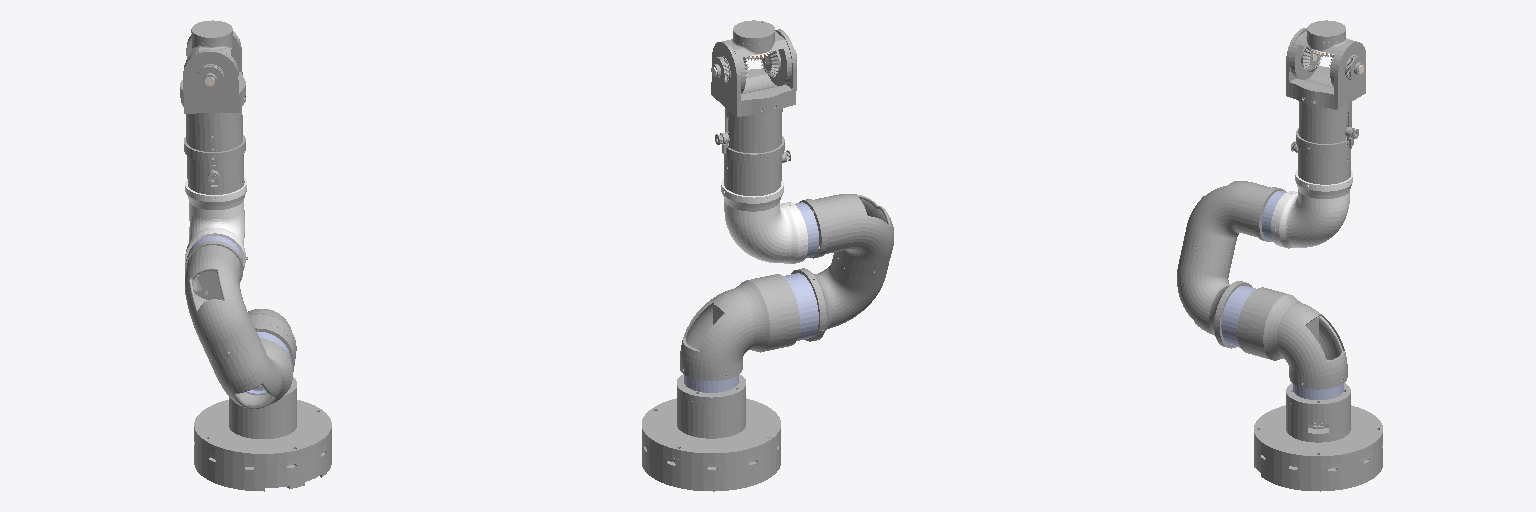
The robot description file, URDF, robot "full-arm-smaller-as-exported":
<?xml version="1.0" encoding="utf-8"?>
<!--
  WayBionic arm - "full-arm-smaller", mechanical drop of 2026-09-05.
  AS EXPORTED. This file asserts nothing that mechanical did not supply.

  Companion to full_arm_smaller.urdf. That file is a best-effort ARTICULATED
  model and contains inferred values; this one contains none, and is the
  reference for "what did we actually receive".

  WHAT THIS FILE CONTAINS
  =======================
  Every part, at exactly the transform the export gives it, joined with FIXED
  joints. Meshes, inertials and colours are byte-for-byte the supplied values.
  The rendered result reproduces the export to within 1.2e-05 m.

  THIS ARM HAS ZERO DEGREES OF FREEDOM, AND THAT IS THE POINT.
  It cannot be planned with, and no MoveIt group can be built on it. The
  2026-09-05 export contains no kinematic information to build one from:

    - no parent/child relationships - all 12 parts hang off the assembly root
    - no joint pivot locations
    - no shoulder or elbow rotation axis (only the three coaxial tool-column
      parts carry a CAD Axis_* frame)
    - no travel, effort or velocity limits (5 sliders pinned at zero stroke,
      1 unbounded rotary)

  Producing a movable arm therefore requires GUESSING all of the above. This
  file declines to guess. Use it to check the geometry, and to show mechanical
  precisely what the delivery does and does not contain.

  THE THREE THINGS THAT ARE NOT VERBATIM
  ======================================
  1. The root aggregate mesh "Full Arm Smaller.STL" is not referenced. It is
     the entire assembly as one 218740-triangle body, and the 12 part meshes
     sum to exactly 218740 - it is the same surfaces a second time. Dropping it
     is arithmetic, not judgement: the 12 parts reproduce its bounding box to
     5.7e-05 m. Nothing is lost.
  2. Spaces in names became underscores. "3rd joint bend" would otherwise
     become a tf frame id containing spaces.
  3. base_link is a geometry-free frame placed so the assembly is centred on
     the origin in XY with its lowest point on z=0, because the STL vertices
     carry raw SolidWorks assembly coordinates ~1.5 m from the origin. This is
     presentation only - it moves every part by the same rigid transform and
     changes no relative geometry. base_link is a FRAME, not a claim about
     which component is the base.
-->
<robot name="full-arm-smaller-as-exported">

  <link name="world"/>
  <joint name="world_to_base" type="fixed">
    <parent link="world"/>
    <child link="base_link"/>
    <origin xyz="-0.726494 1.3411 -0.841727" rpy="0 0 0"/>
  </joint>

  <!-- Frame only. The export's root link carried the duplicate aggregate mesh;
       here it carries nothing, so the 12 parts are the only geometry. -->
  <link name="base_link"/>

  <link name="stepper">
    <inertial>
      <origin xyz="0.64313 0.8998 1.2835" rpy="0 0 0"/>
      <mass value="0.45705"/>
      <inertia ixx="0.00037382" ixy="1.0743E-07" ixz="9.7233E-06" iyy="0.0005475" iyz="2.5993E-07" izz="0.00038353"/>
    </inertial>
    <visual>
      <origin xyz="0 0 0" rpy="0 0 0"/>
      <geometry>
        <mesh filename="package://waybionic_description/meshes/stepper.STL"/>
      </geometry>
      <material name="">
        <color rgba="0.75294 0.75294 0.75294 1"/>
      </material>
    </visual>
  </link>
  <!-- Fixed: the export states where this part sits, not how it moves. -->
  <joint name="stepper_mount" type="fixed">
    <origin xyz="-0.53484 -1.9431 0.096726" rpy="1.5708 0 1.5708"/>
    <parent link="base_link"/>
    <child link="stepper"/>
  </joint>

  <link name="sweep">
    <inertial>
      <origin xyz="0.67017 0.93495 1.162" rpy="0 0 0"/>
      <mass value="0.26997"/>
      <inertia ixx="6.5782E-05" ixy="1.1446E-05" ixz="-2.7313E-09" iyy="8.2674E-05" iyz="-2.7407E-09" izz="8.8451E-05"/>
    </inertial>
    <visual>
      <origin xyz="0 0 0" rpy="0 0 0"/>
      <geometry>
        <mesh filename="package://waybionic_description/meshes/sweep.STL"/>
      </geometry>
      <material name="">
        <color rgba="0.75294 0.75294 0.75294 1"/>
      </material>
    </visual>
  </link>
  <!-- Fixed: the export states where this part sits, not how it moves. -->
  <joint name="sweep_mount" type="fixed">
    <origin xyz="1.1976 -0.26086 2.2583" rpy="-3.14159 0 -1.0472"/>
    <parent link="base_link"/>
    <child link="sweep"/>
  </joint>

  <link name="third_joint_bend">
    <inertial>
      <origin xyz="0.067761 0.038489 -2.4671E-07" rpy="0 0 0"/>
      <mass value="0.17976"/>
      <inertia ixx="0.00030235" ixy="-7.4527E-05" ixz="-9.963E-10" iyy="0.00037544" iyz="-5.4808E-10" izz="0.00040872"/>
    </inertial>
    <visual>
      <origin xyz="0 0 0" rpy="0 0 0"/>
      <geometry>
        <mesh filename="package://waybionic_description/meshes/third_joint_bend.STL"/>
      </geometry>
      <material name="">
        <color rgba="1 1 1 1"/>
      </material>
    </visual>
  </link>
  <!-- Fixed: the export states where this part sits, not how it moves. -->
  <joint name="third_joint_bend_mount" type="fixed">
    <origin xyz="0.67987 -1.3186 1.167" rpy="3.14159 -1.5429 2.5621"/>
    <parent link="base_link"/>
    <child link="third_joint_bend"/>
  </joint>

  <link name="heat_set_insert">
    <inertial>
      <origin xyz="0.02981 -0.0047361 0.051895" rpy="0 0 0"/>
      <mass value="0.00011545"/>
      <inertia ixx="3.5199E-10" ixy="6.9974E-13" ixz="-5.5737E-14" iyy="3.5037E-10" iyz="-2.0825E-14" izz="3.5866E-10"/>
    </inertial>
    <visual>
      <origin xyz="0 0 0" rpy="0 0 0"/>
      <geometry>
        <mesh filename="package://waybionic_description/meshes/heat_set_insert.STL"/>
      </geometry>
      <material name="">
        <color rgba="0.79216 0.81961 0.93333 1"/>
      </material>
    </visual>
  </link>
  <!-- Fixed: the export states where this part sits, not how it moves. -->
  <joint name="heat_set_insert_mount" type="fixed">
    <origin xyz="0.77873 -1.3217 0.95953" rpy="0 0 2.2045"/>
    <parent link="base_link"/>
    <child link="heat_set_insert"/>
  </joint>

  <link name="m3">
    <inertial>
      <origin xyz="-0.060837 -0.13261 -0.0085639" rpy="0 0 0"/>
      <mass value="0.00029834"/>
      <inertia ixx="1.068E-08" ixy="-2.7807E-09" ixz="-8.3275E-11" iyy="4.0957E-09" iyz="-2.2672E-10" izz="9.2816E-09"/>
    </inertial>
    <visual>
      <origin xyz="0 0 0" rpy="0 0 0"/>
      <geometry>
        <mesh filename="package://waybionic_description/meshes/m3.STL"/>
      </geometry>
      <material name="">
        <color rgba="0.75294 0.75294 0.75294 1"/>
      </material>
    </visual>
  </link>
  <!-- Fixed: the export states where this part sits, not how it moves. -->
  <joint name="m3_mount" type="fixed">
    <origin xyz="0.7363 -1.3023 1.2105" rpy="1.5411 -0.3505 1.0015"/>
    <parent link="base_link"/>
    <child link="m3"/>
  </joint>

  <link name="shouldersplit">
    <inertial>
      <origin xyz="0.81651 0.88324 1.3436" rpy="0 0 0"/>
      <mass value="0.19918"/>
      <inertia ixx="0.00044506" ixy="0.00011586" ixz="-4.3871E-08" iyy="0.00034473" iyz="-4.7682E-08" izz="0.00051429"/>
    </inertial>
    <visual>
      <origin xyz="0 0 0" rpy="0 0 0"/>
      <geometry>
        <mesh filename="package://waybionic_description/meshes/shouldersplit.STL"/>
      </geometry>
      <material name="">
        <color rgba="0.75294 0.75294 0.75294 1"/>
      </material>
    </visual>
  </link>
  <!-- Fixed: the export states where this part sits, not how it moves. -->
  <joint name="shouldersplit_mount" type="fixed">
    <origin xyz="0.33749 -0.16581 -0.080808" rpy="0 -1.1744 2.5621"/>
    <parent link="base_link"/>
    <child link="shouldersplit"/>
  </joint>

  <link name="bottom_base_assembly">
    <inertial>
      <origin xyz="0.71633 0.93281 1.367" rpy="0 0 0"/>
      <mass value="1.2997"/>
      <inertia ixx="0.0036992" ixy="-4.7879E-13" ixz="3.5114E-10" iyy="0.007244" iyz="-1.5577E-05" izz="0.0037785"/>
    </inertial>
    <visual>
      <origin xyz="0 0 0" rpy="0 0 0"/>
      <geometry>
        <mesh filename="package://waybionic_description/meshes/bottom_base_assembly.STL"/>
      </geometry>
      <material name="">
        <color rgba="0.75294 0.75294 0.75294 1"/>
      </material>
    </visual>
  </link>
  <!-- Fixed: the export states where this part sits, not how it moves. -->
  <joint name="bottom_base_assembly_mount" type="fixed">
    <origin xyz="0.062391 0.086339 -0.061769" rpy="1.5708 0 0"/>
    <parent link="base_link"/>
    <child link="bottom_base_assembly"/>
  </joint>

  <link name="diff_assembly_pulley">
    <inertial>
      <origin xyz="0.68569 0.11834 1.3207" rpy="0 0 0"/>
      <mass value="0.86499"/>
      <inertia ixx="0.00088427" ixy="3.205E-05" ixz="-3.2838E-07" iyy="0.00094021" iyz="-2.3104E-07" izz="0.0010963"/>
    </inertial>
    <visual>
      <origin xyz="0 0 0" rpy="0 0 0"/>
      <geometry>
        <mesh filename="package://waybionic_description/meshes/diff_assembly_pulley.STL"/>
      </geometry>
      <material name="">
        <color rgba="0.75294 0.75294 0.75294 1"/>
      </material>
    </visual>
  </link>
  <!-- Fixed: the export states where this part sits, not how it moves. -->
  <joint name="diff_assembly_pulley_mount" type="fixed">
    <origin xyz="-0.77443 -1.1236 1.2554" rpy="1.5429 0 0.99133"/>
    <parent link="base_link"/>
    <child link="diff_assembly_pulley"/>
  </joint>

  <link name="nema23">
    <inertial>
      <origin xyz="0.10166 0.070102 0.0018368" rpy="0 0 0"/>
      <mass value="1.0827"/>
      <inertia ixx="0.0014882" ixy="-0.00023608" ixz="-5.2655E-05" iyy="0.0014342" iyz="-4.7983E-05" izz="0.0015666"/>
    </inertial>
    <visual>
      <origin xyz="0 0 0" rpy="0 0 0"/>
      <geometry>
        <mesh filename="package://waybionic_description/meshes/nema23.STL"/>
      </geometry>
      <material name="">
        <color rgba="0.75294 0.75294 0.75294 1"/>
      </material>
    </visual>
  </link>
  <!-- Fixed: the export states where this part sits, not how it moves. -->
  <joint name="nema23_mount" type="fixed">
    <origin xyz="0.77873 -1.2817 0.98853" rpy="1.5708 0 -2.1503"/>
    <parent link="base_link"/>
    <child link="nema23"/>
  </joint>

  <link name="outerring">
    <inertial>
      <origin xyz="-0.0080961 0.027364 -0.026357" rpy="0 0 0"/>
      <mass value="0.29137"/>
      <inertia ixx="0.00023769" ixy="1.4814E-05" ixz="1.3088E-12" iyy="0.00026688" iyz="-1.3596E-12" izz="0.00036814"/>
    </inertial>
    <visual>
      <origin xyz="0 0 0" rpy="0 0 0"/>
      <geometry>
        <mesh filename="package://waybionic_description/meshes/outerring.STL"/>
      </geometry>
      <material name="">
        <color rgba="0.79216 0.81961 0.93333 1"/>
      </material>
    </visual>
  </link>
  <!-- Fixed: the export states where this part sits, not how it moves. -->
  <joint name="outerring_mount" type="fixed">
    <origin xyz="0.71579 -1.3779 1.0572" rpy="1.5708 -0.39637 -0.57947"/>
    <parent link="base_link"/>
    <child link="outerring"/>
  </joint>

  <link name="bevel_gear">
    <inertial>
      <origin xyz="-0.023575 -0.00015203 0.00068011" rpy="0 0 0"/>
      <mass value="0.042026"/>
      <inertia ixx="9.9802E-06" ixy="-4.8977E-09" ixz="4.0392E-09" iyy="5.3605E-06" iyz="-8.7432E-07" izz="6.9939E-06"/>
    </inertial>
    <visual>
      <origin xyz="0 0 0" rpy="0 0 0"/>
      <geometry>
        <mesh filename="package://waybionic_description/meshes/bevel_gear.STL"/>
      </geometry>
      <material name="">
        <color rgba="1 0.94902 0.9098 1"/>
      </material>
    </visual>
  </link>
  <!-- Fixed: the export states where this part sits, not how it moves. -->
  <joint name="bevel_gear_mount" type="fixed">
    <origin xyz="0.70184 -1.2696 1.4868" rpy="2.7387 1.5637 -0.57947"/>
    <parent link="base_link"/>
    <child link="bevel_gear"/>
  </joint>

  <link name="biomed_lock_mech">
    <inertial>
      <origin xyz="-0.00050981 0.024759 -7.0336E-05" rpy="0 0 0"/>
      <mass value="0.053298"/>
      <inertia ixx="1.3634E-05" ixy="-8.735E-22" ixz="-1.8806E-08" iyy="1.8285E-05" iyz="1.1597E-07" izz="1.3317E-05"/>
    </inertial>
    <visual>
      <origin xyz="0 0 0" rpy="0 0 0"/>
      <geometry>
        <mesh filename="package://waybionic_description/meshes/biomed_lock_mech.STL"/>
      </geometry>
      <material name="">
        <color rgba="0.75294 0.75294 0.75294 1"/>
      </material>
    </visual>
  </link>
  <!-- Fixed: the export states where this part sits, not how it moves. -->
  <joint name="biomed_lock_mech_mount" type="fixed">
    <origin xyz="0.70162 -1.2695 1.5109" rpy="1.568 -0.0065256 -0.17655"/>
    <parent link="base_link"/>
    <child link="biomed_lock_mech"/>
  </joint>

</robot>

--- What the picture shows (computed from the rendered views, not written in the file) ---
3 views of the same robot in one strip: view 1: azimuth 30°, elevation 25°; view 2: azimuth 150°, elevation 25°; view 3: azimuth 270°, elevation 25° (orthographic).
Model full-arm-smaller-as-exported with 14 links and 13 joints (13 fixed), rooted at world, posed every joint at zero.
Visible links, largest first — view 1: diff_assembly_pulley, bottom_base_assembly, shouldersplit, nema23, stepper, third_joint_bend, biomed_lock_mech, outerring; view 2: nema23, diff_assembly_pulley, bottom_base_assembly, third_joint_bend, shouldersplit, stepper, outerring, biomed_lock_mech; view 3: nema23, diff_assembly_pulley, bottom_base_assembly, third_joint_bend, shouldersplit, stepper, outerring, biomed_lock_mech.
Link boxes in pixels (x1,y1,x2,y2): diff_assembly_pulley: (180,31,245,198); bottom_base_assembly: (194,400,331,491); shouldersplit: (185,245,257,359); nema23: (208,309,296,408); stepper: (185,241,296,438); third_joint_bend: (185,177,246,270); biomed_lock_mech: (191,20,232,43); outerring: (189,236,290,394); nema23: (680,252,888,380); diff_assembly_pulley: (711,29,796,195); bottom_base_assembly: (642,398,780,491); third_joint_bend: (721,178,807,263); shouldersplit: (814,194,893,275); stepper: (677,199,827,438); outerring: (684,202,818,392); biomed_lock_mech: (733,20,774,44); nema23: (1177,247,1347,389); diff_assembly_pulley: (1286,28,1365,184); bottom_base_assembly: (1254,405,1382,491); third_joint_bend: (1271,169,1352,248); shouldersplit: (1182,181,1270,257); stepper: (1254,187,1350,442); outerring: (1221,191,1343,399); biomed_lock_mech: (1307,20,1345,42).
Size in the robot's own frame: 0.3044 by 0.3189 by 0.7061 metres.
12 mesh visuals loaded from 12 distinct referenced files (12 binary STL).
